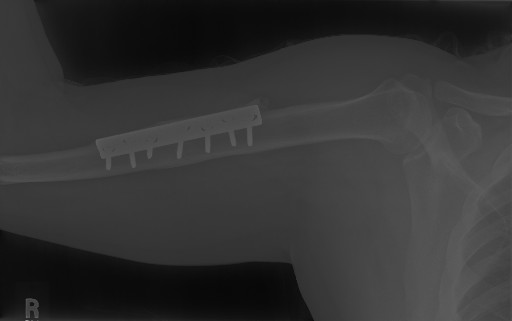implant: (94, 101, 263, 168)
